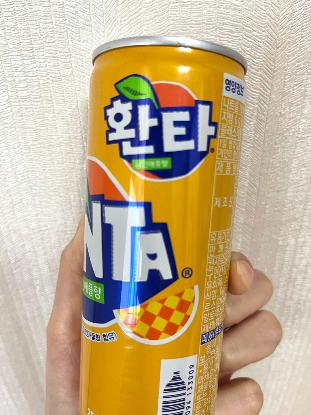Can: (77, 32, 252, 415)
